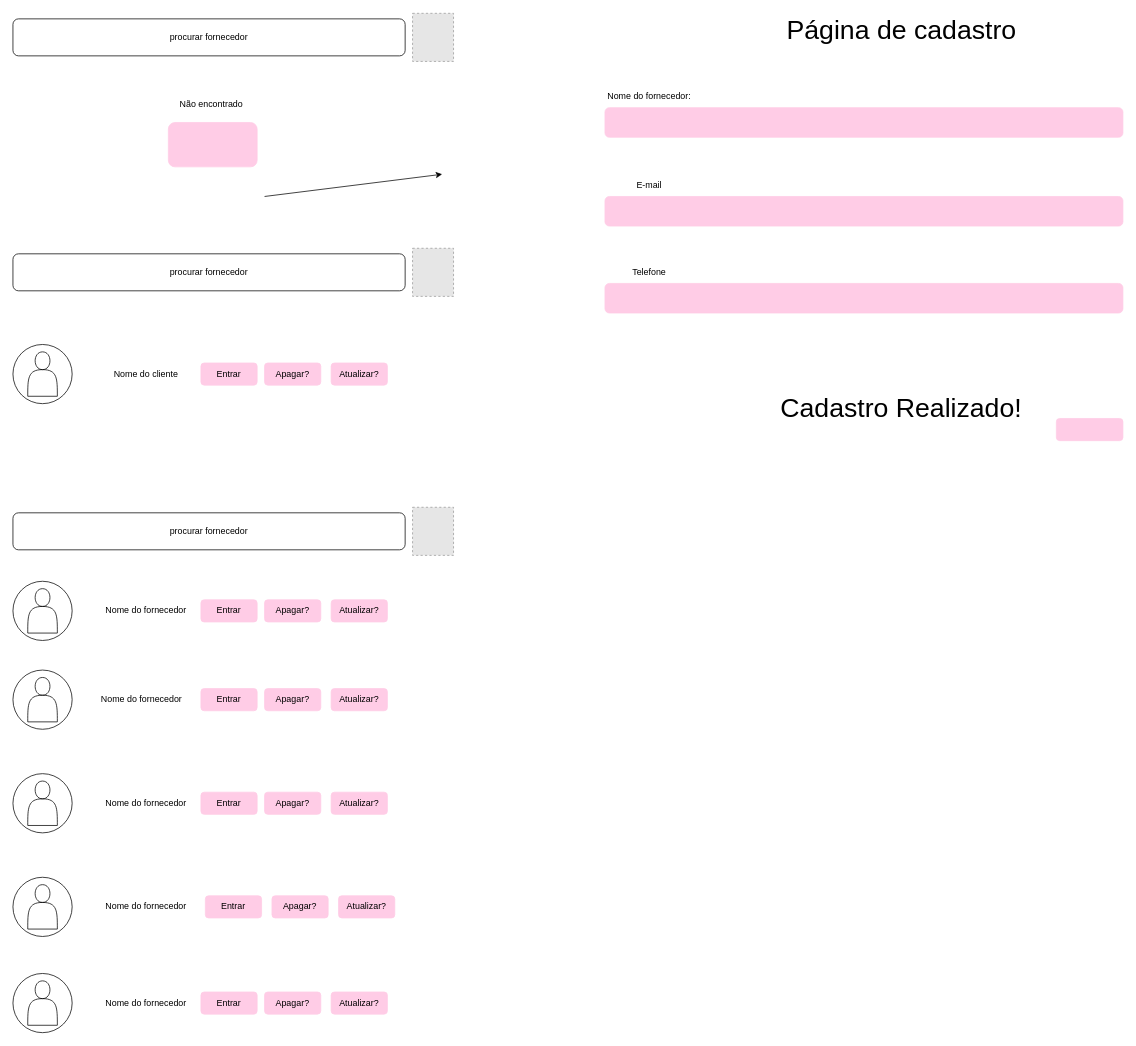
This 1136x1046 diagram has some shape labels left out. Grey dashed boxes stand in for pictures. Here are the shapes that lost their labels. From the top down, the centre of each, then its label:
point 212,144: Fazer Cadastro
point 1089,429: Ir
